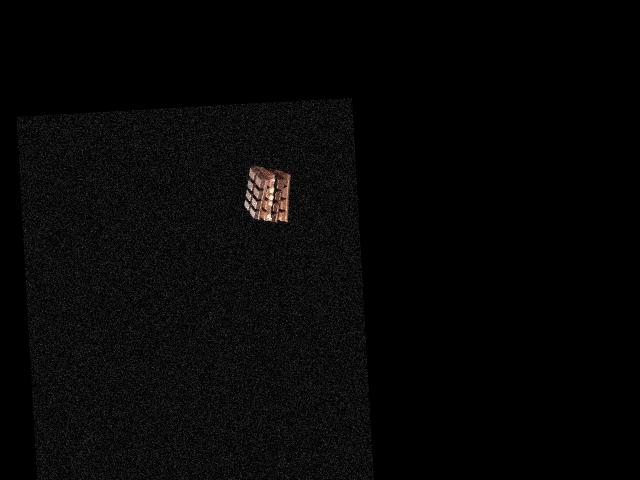chocolate: (242, 167, 295, 223)
